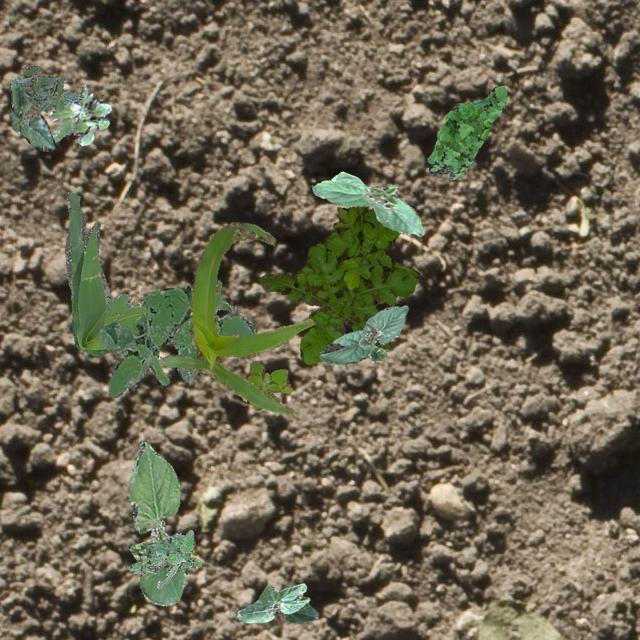crop: (158, 220, 314, 414), (126, 440, 190, 604), (310, 170, 422, 236), (318, 304, 408, 364), (8, 76, 54, 150), (236, 582, 316, 622)
weed: (64, 190, 235, 354), (258, 204, 418, 364), (97, 278, 255, 396), (426, 85, 506, 178), (127, 530, 200, 588), (48, 84, 110, 144), (18, 64, 82, 112), (246, 360, 292, 410)
